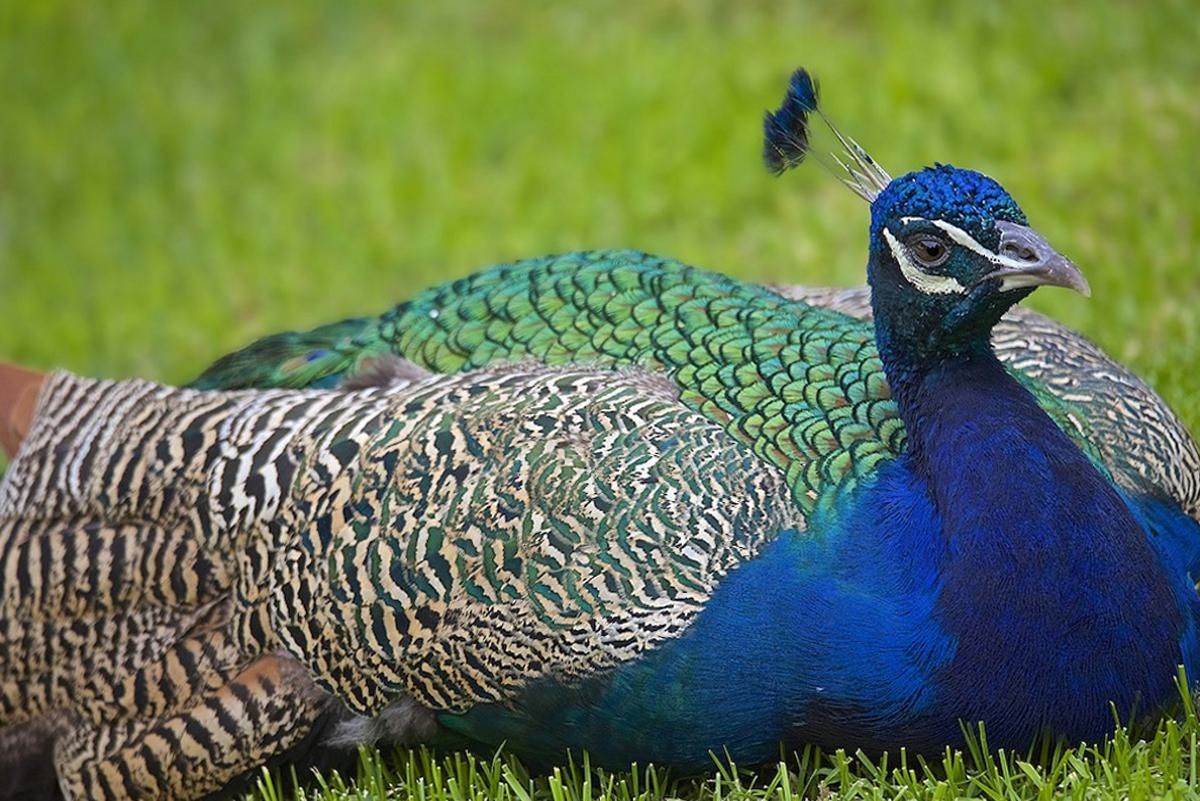peacock: (1, 145, 1173, 801)
